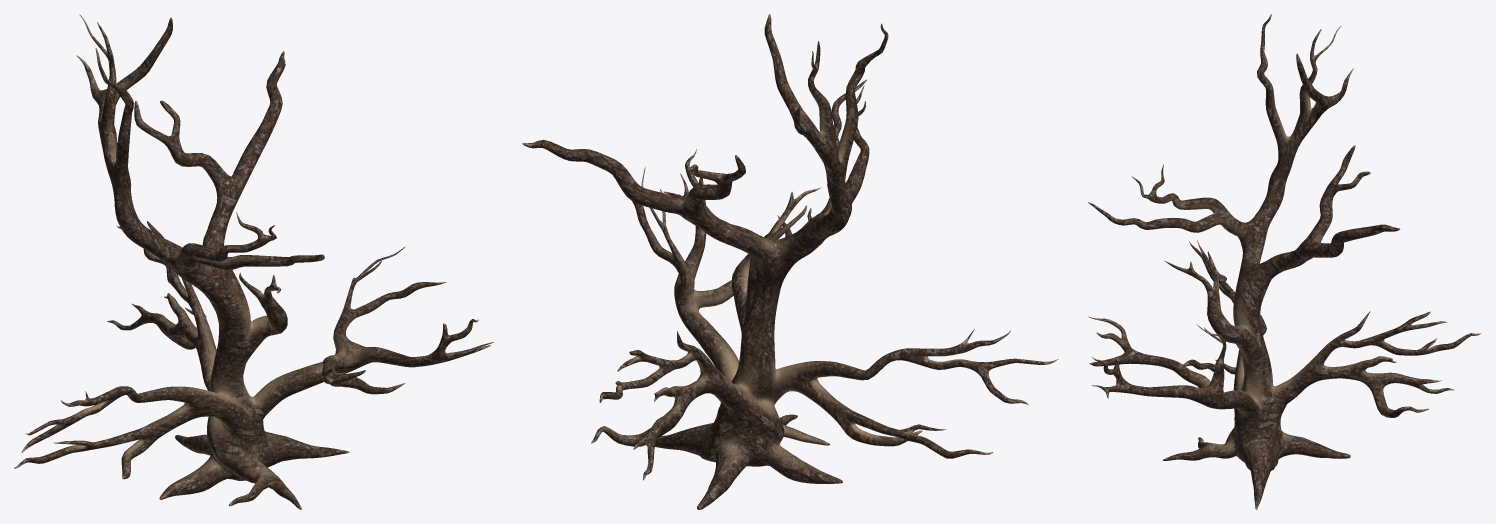
File: tree1.glb
3 renders of one model, left to right at view 1: azimuth 30°, elevation 25°; view 2: azimuth 150°, elevation 25°; view 3: azimuth 270°, elevation 25°, orthographic. The views are drawn at different scales.
Visible parts, largest first — view 1: Retopo_Plane; view 2: Retopo_Plane; view 3: Retopo_Plane.
Part boxes in pixels (<box>): Retopo_Plane: <box>14,14,493,509</box>; Retopo_Plane: <box>522,14,1058,509</box>; Retopo_Plane: <box>1088,14,1480,509</box>.
Bounding box in the file's own units: 6.99 × 7.32 × 6.63.
Materials: 1 (1 with a texture image).
